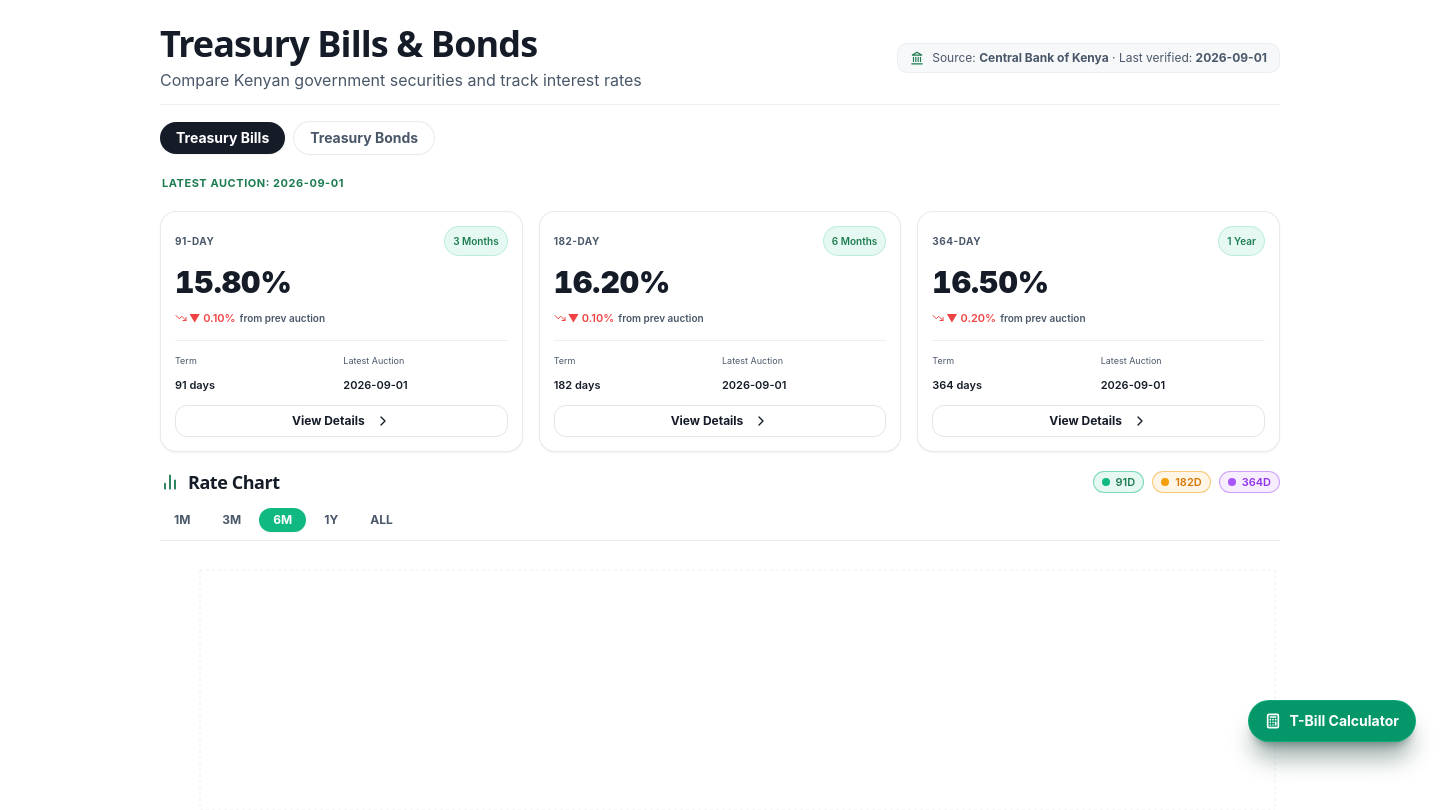
TreasuryPage Rule of 3 Gating › shows all bonds without gate for authenticated users
Switch to Treasury Bonds tab
Step 1. Click the button "Treasury Bonds" → coordinates (364, 138), box [293,121,435,155]
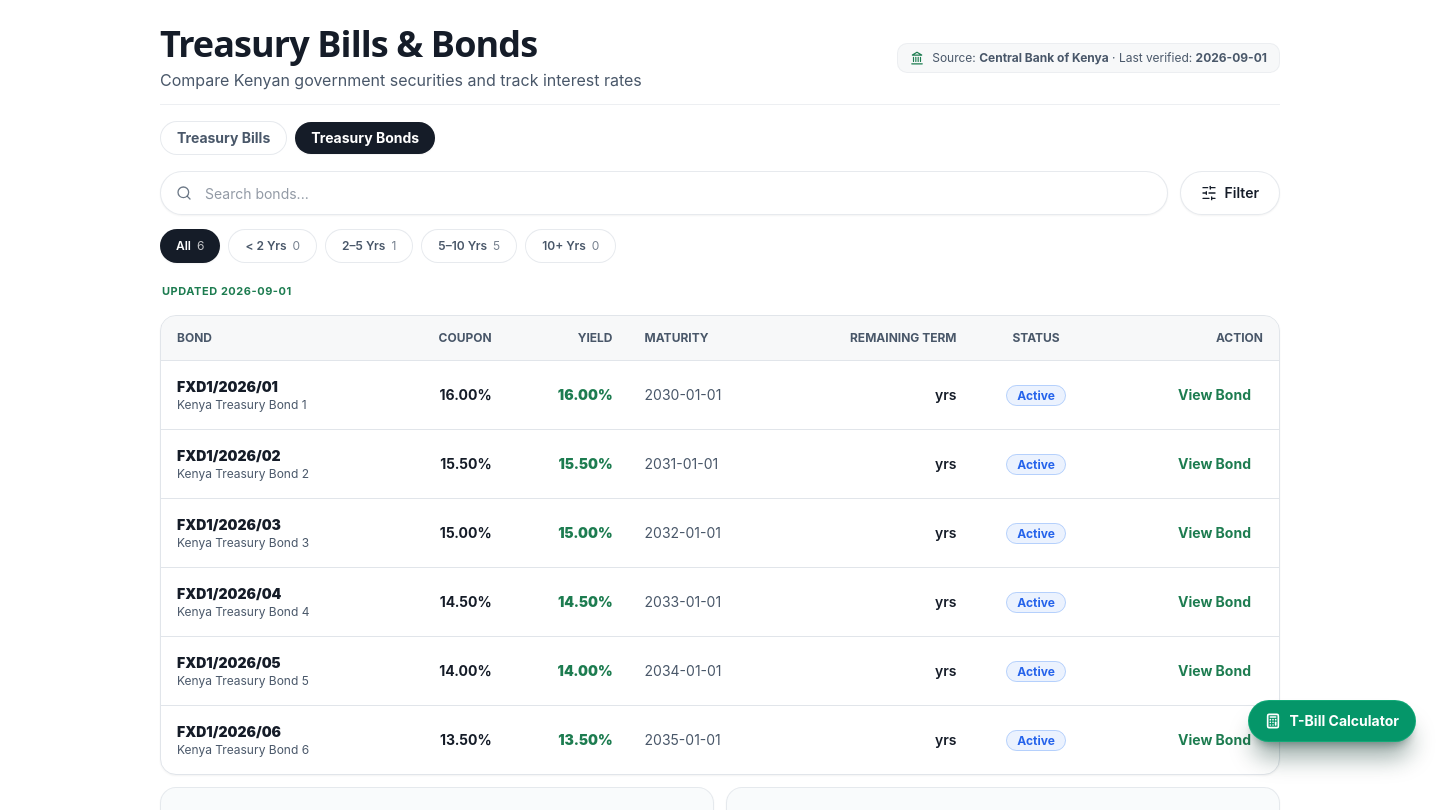
Expected: the text "FXD1/2026/06" is shown, [177,723,281,740]
